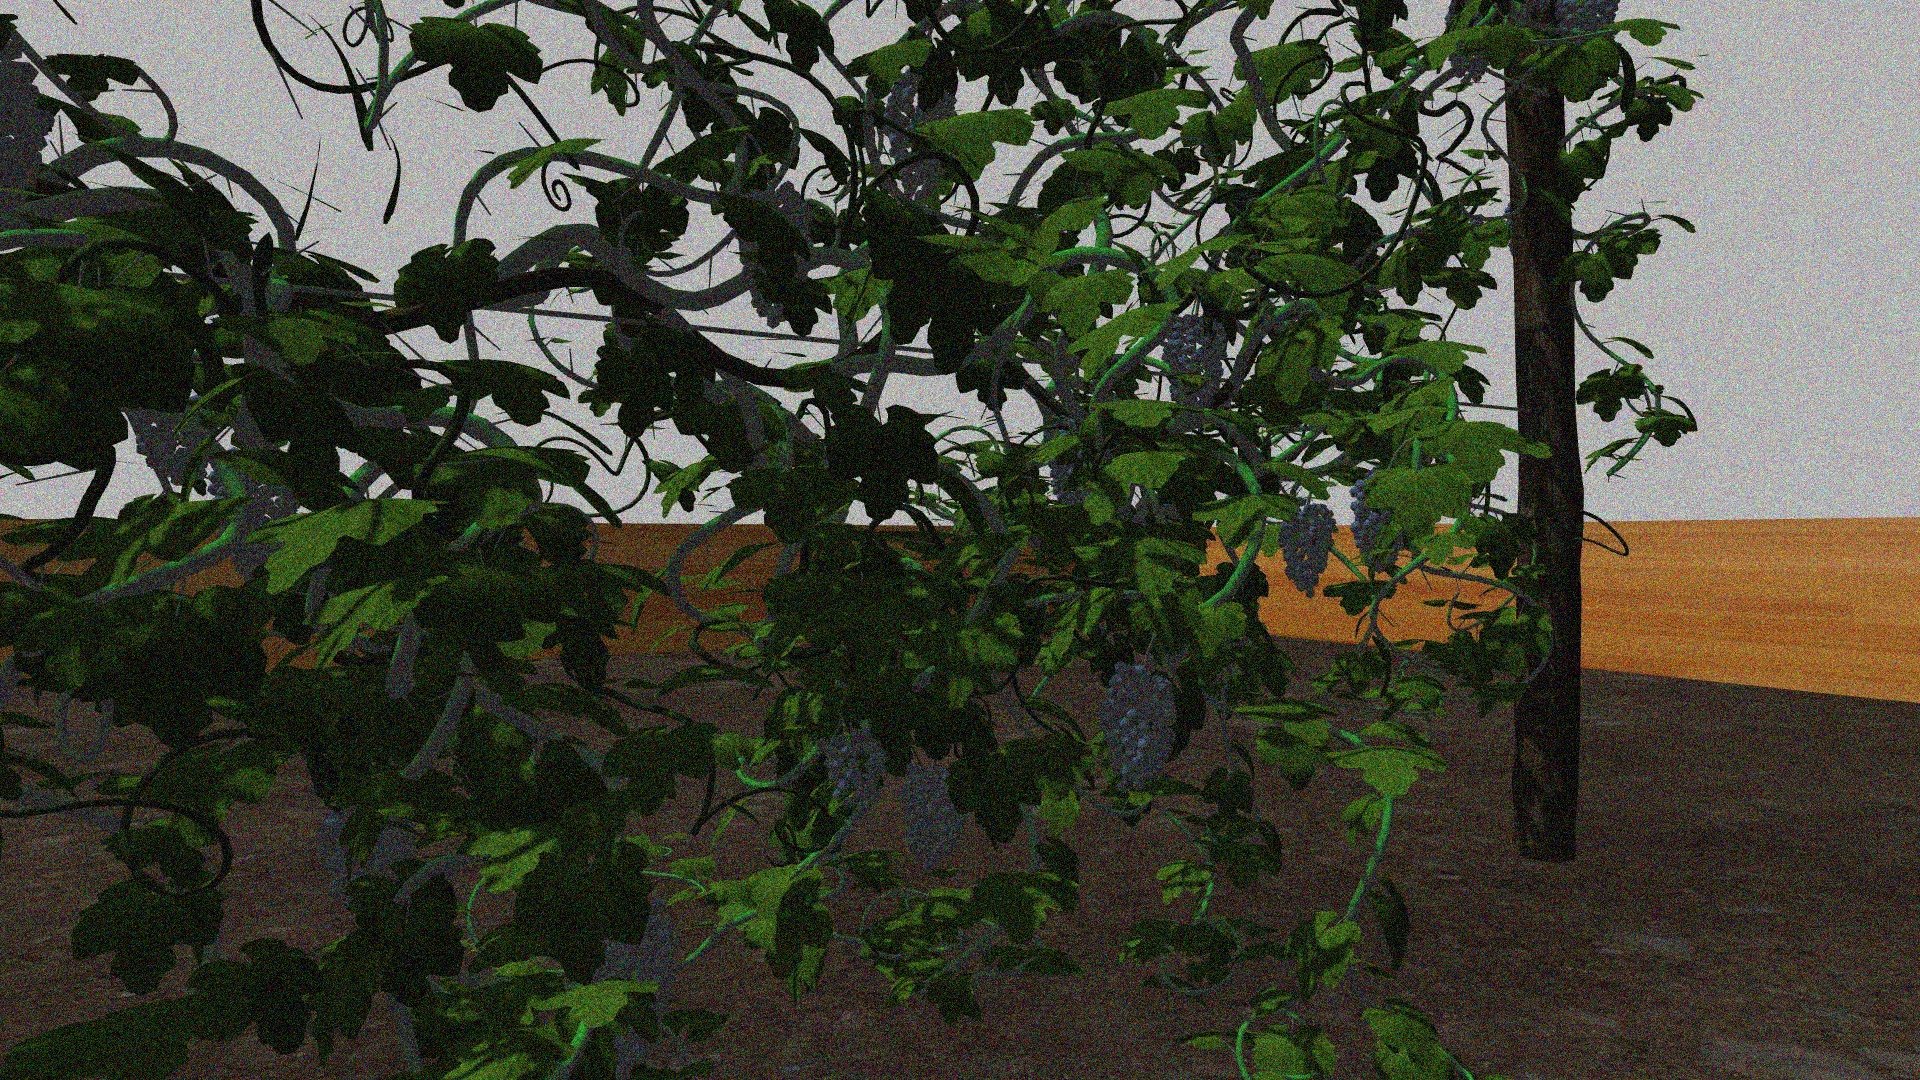grape: (592, 884, 680, 1051), (1101, 658, 1179, 795), (901, 767, 969, 880), (1275, 501, 1337, 603), (1164, 318, 1229, 409), (822, 731, 889, 808), (1352, 481, 1402, 568)
